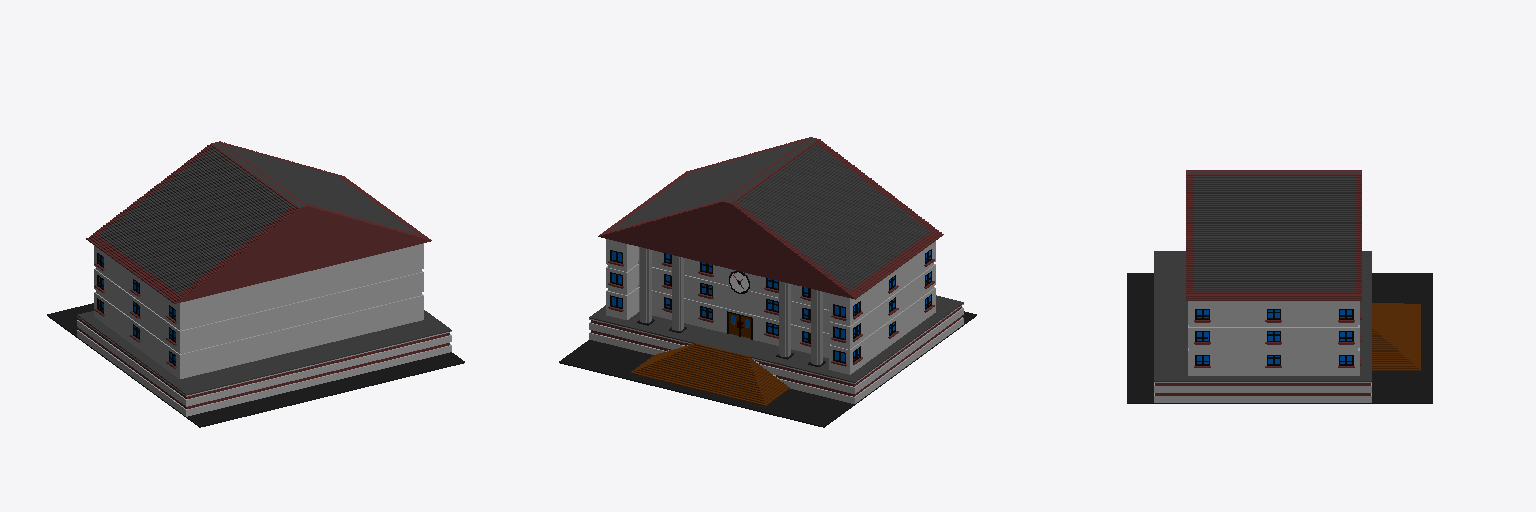
3 views of the same model, side by side, from view 1: azimuth 30°, elevation 25°; view 2: azimuth 150°, elevation 25°; view 3: azimuth 270°, elevation 25° (orthographic).
Parts seen in each view (by area): view 1: object 1; view 2: object 1; view 3: object 1.
Part boxes in pixels (x1,y1,x2,y2): object 1: (47,141,464,427); object 1: (559,137,976,427); object 1: (1127,170,1432,403).
Bounding box in the file's own units: 25 × 15 × 25.
1 materials, 1 textured.